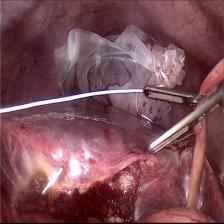Grasper: (141, 81, 221, 158)
Specimen Bag: (51, 19, 185, 131)
